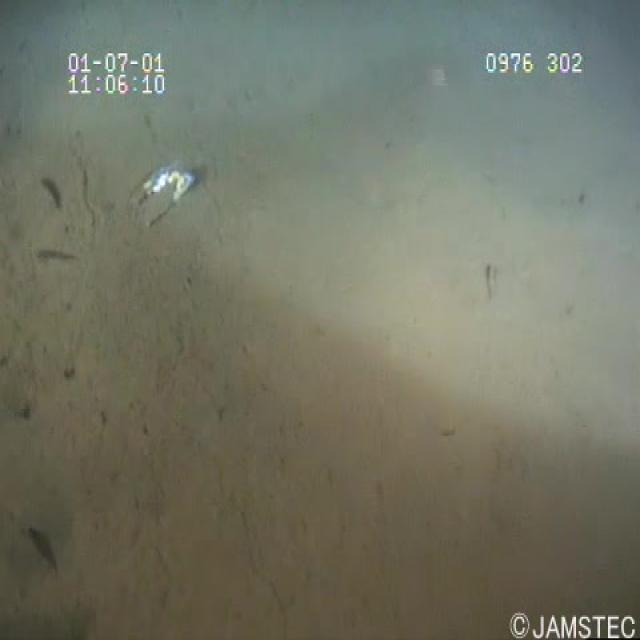plastic: (116, 149, 205, 240)
